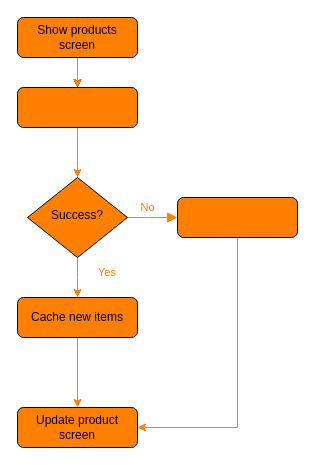
The diagram is 315 pixels wide and 465 high, and some of its shapes have lost their labels. The box of each missing label's shape, as (x1, y1, x2, y2) in pixels:
Fetch new products: (16, 86, 138, 128)
Load product from cache: (176, 196, 298, 238)
